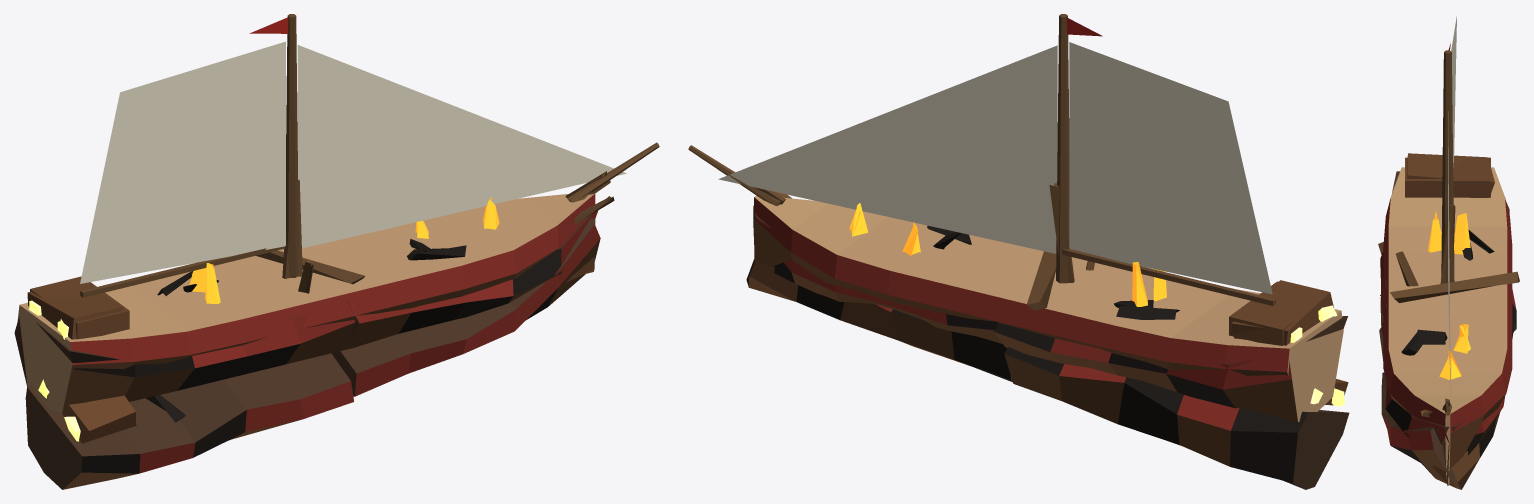
File: ship_s2a.glb
3 views of the same model, side by side, from view 1: azimuth 30°, elevation 25°; view 2: azimuth 150°, elevation 25°; view 3: azimuth 270°, elevation 25° (orthographic). The views are drawn at different scales.
Visible parts, largest first — view 1: seg0, sunk, seg1, seg0_broken, seg1_broken; view 2: seg0, sunk, seg1, seg0_broken, seg1_broken; view 3: seg0, seg1, seg0_broken, sunk, seg1_broken.
Part boxes in pixels (box(x1,y1,x2,y2)): seg0: box(17, 14, 626, 413); sunk: box(25, 196, 614, 489); seg1: box(302, 142, 659, 340); seg0_broken: box(14, 179, 364, 414); seg1_broken: box(341, 171, 610, 350); seg0: box(718, 14, 1343, 422); sunk: box(746, 191, 1349, 489); seg1: box(688, 145, 1043, 322); seg0_broken: box(994, 183, 1347, 422); seg1_broken: box(753, 187, 1002, 343); seg0: box(1383, 16, 1512, 413); seg1: box(1383, 300, 1512, 485); seg0_broken: box(1380, 153, 1519, 332); sunk: box(1378, 242, 1499, 489); seg1_broken: box(1382, 304, 1513, 485).
Bounding box in the file's own units: 2.12 × 1.34 × 0.4625.
